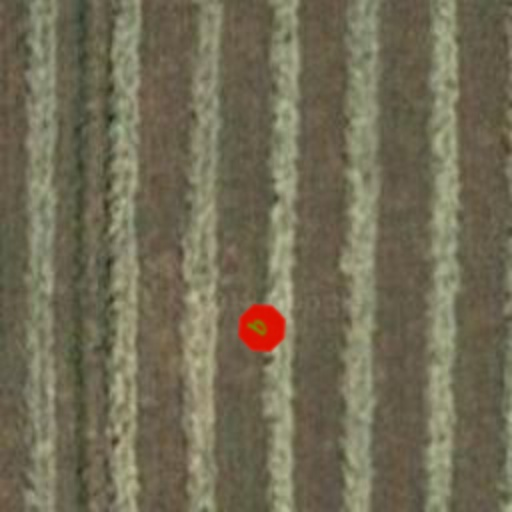octagon: (228, 294, 296, 362)
